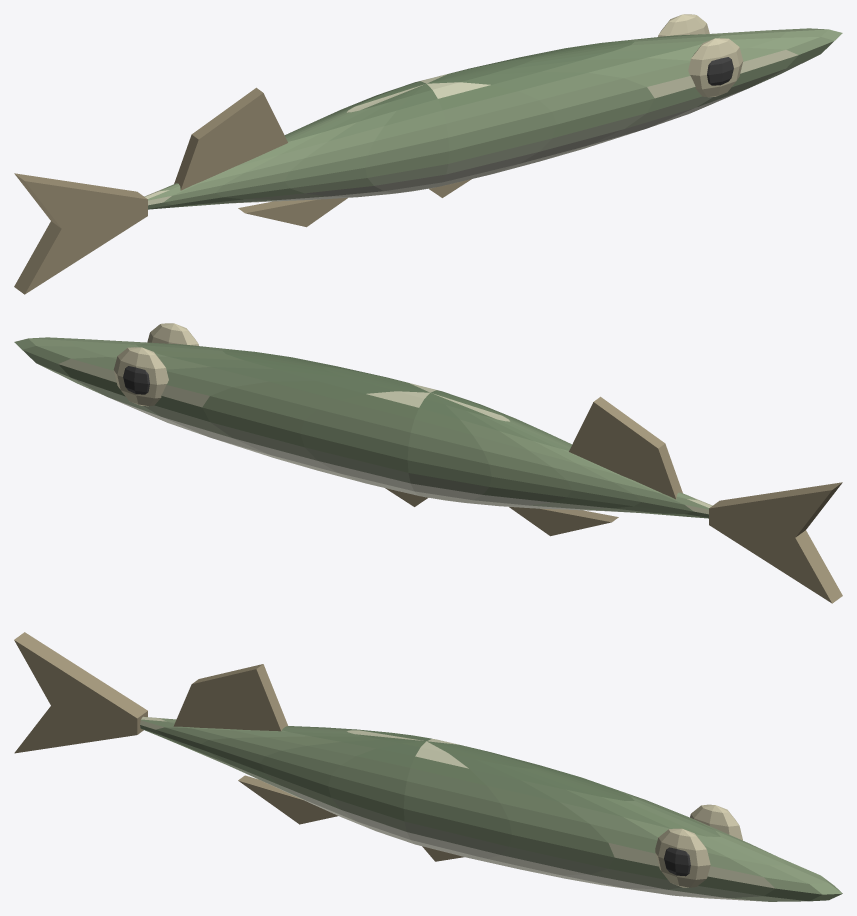
File: NorthernPike.glb
3 views of the same model, one above another, from view 1: azimuth 30°, elevation 25°; view 2: azimuth 150°, elevation 25°; view 3: azimuth 330°, elevation 25° (orthographic).
Parts seen in each view (by area): view 1: NorthernPike; view 2: NorthernPike; view 3: NorthernPike.
Part boxes in pixels (x1,y1,x2,y2): NorthernPike: [14, 14, 842, 294]; NorthernPike: [14, 323, 842, 603]; NorthernPike: [14, 632, 842, 901].
Size of the model in its own units: 8.62 by 1.49 by 0.865.
